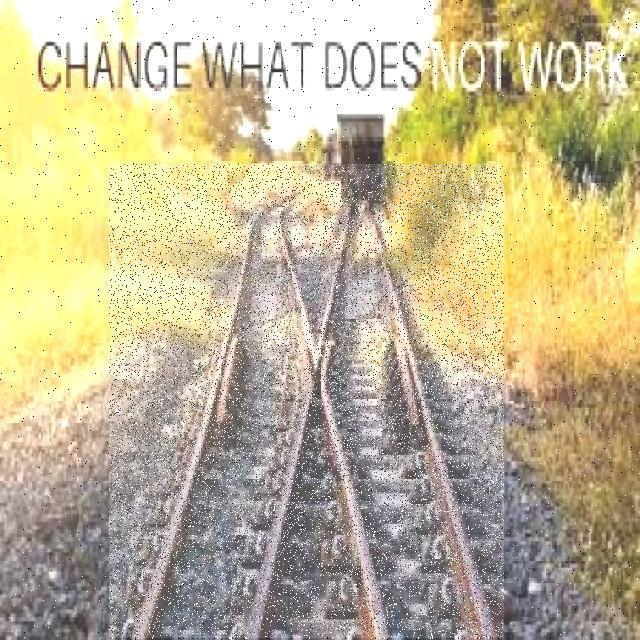rail: (111, 166, 505, 639)
